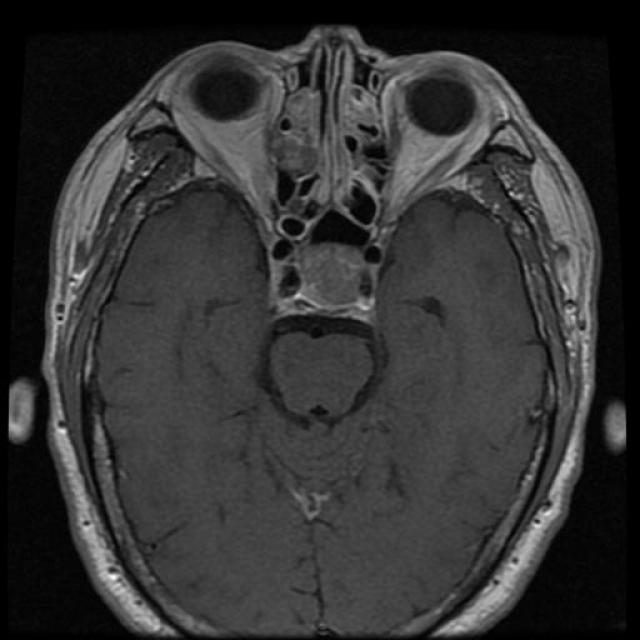Brain-Tumor: (282, 228, 376, 315)
eye: (157, 31, 307, 228), (372, 34, 505, 218)
